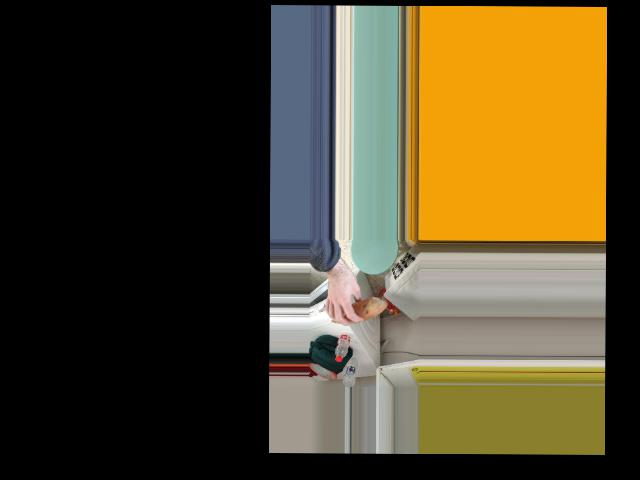sweet_potato: (328, 298, 385, 324)
